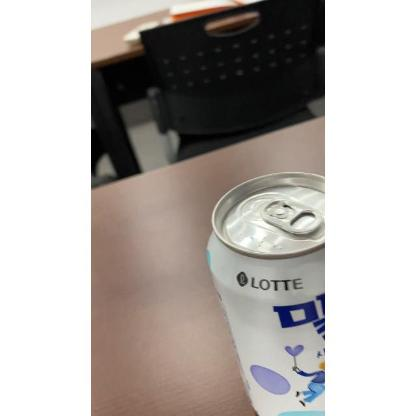Can: (205, 167, 325, 415)
